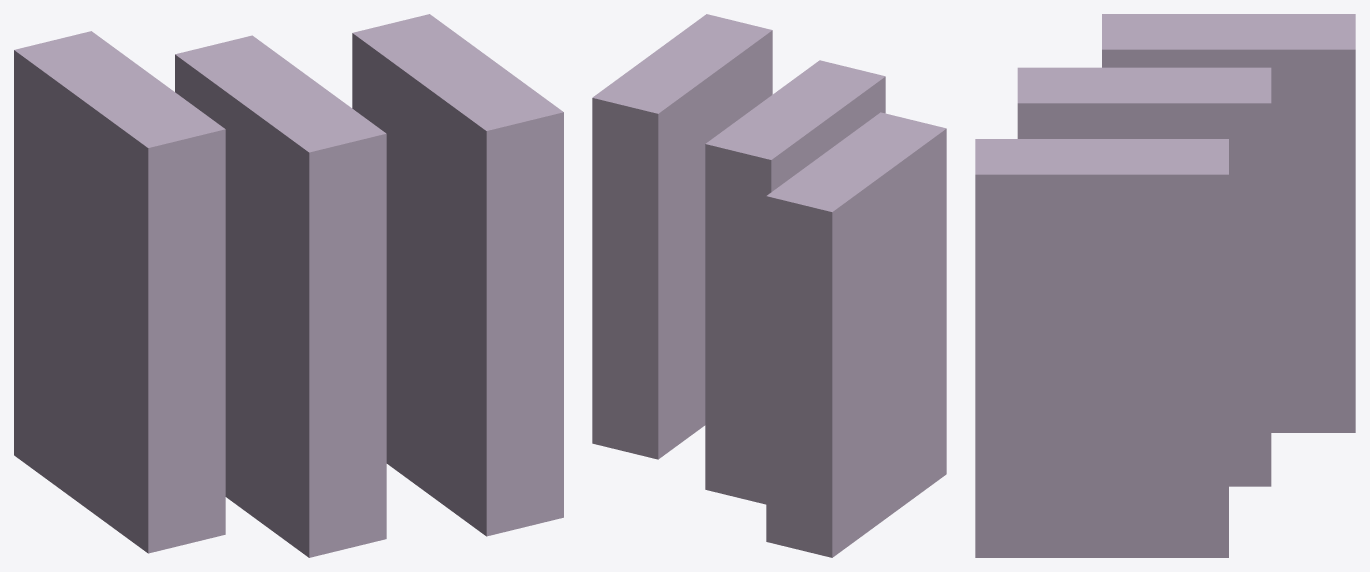
Rendered from biombo_seda_01.glb.
3 renders of one model, left to right at view 1: azimuth 30°, elevation 25°; view 2: azimuth 150°, elevation 25°; view 3: azimuth 270°, elevation 25°, orthographic. The views are drawn at different scales.
Parts seen in each view (by area): view 1: biombo_seda; view 2: biombo_seda; view 3: biombo_seda.
Boxes of the visible parts, x1=… form: biombo_seda: x1=14, y1=14, x2=563, y2=557; biombo_seda: x1=592, y1=14, x2=946, y2=557; biombo_seda: x1=975, y1=14, x2=1355, y2=557.
Bounding box in the file's own units: 0.6429 × 0.7143 × 0.6429.
